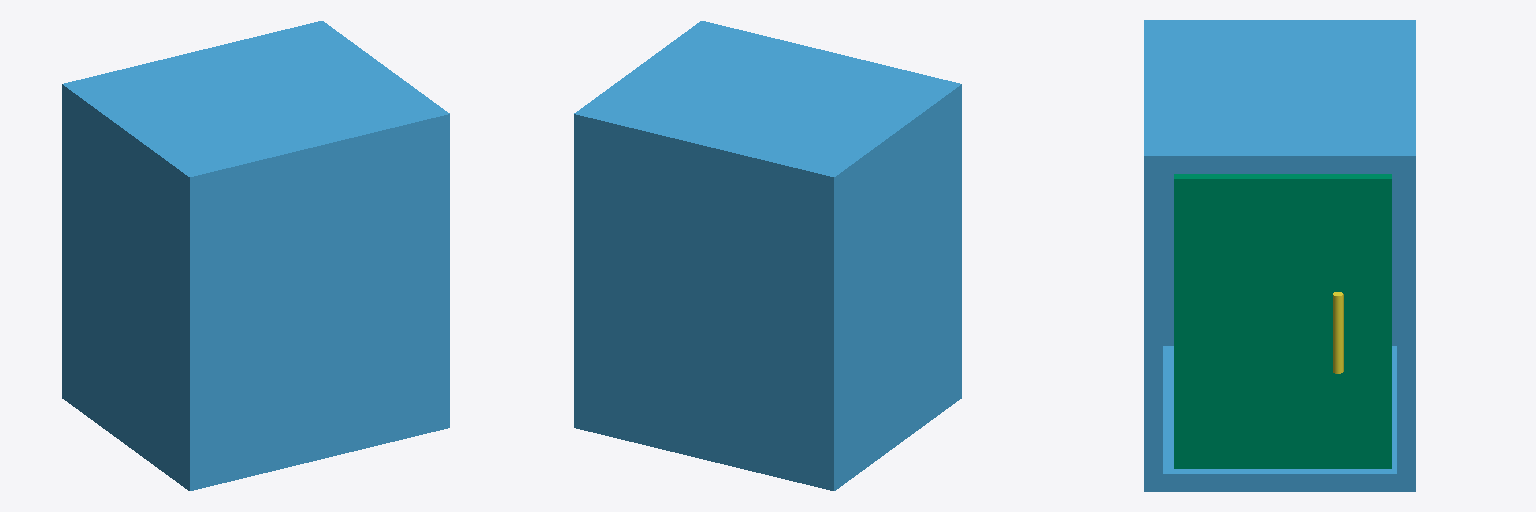
The robot description file, URDF, robot "my_cabinet":
<?xml version="1.0" ?>
<robot name="my_cabinet">
	<link name="world"/>
	<joint name="virtual_joint" type="fixed">
		<parent link="world"/>
		<child link="base_cabinet_link"/>
		<origin xyz="0.0 0.0 0.0" rpy="0.0 0.0 0.0"/>
	</joint>
	<link name="base_cabinet_link">
		<visual>
			<origin xyz="0.0 -0.0025 -0.16375338457756125" rpy="0.0 0.0 0.0"/>
			<geometry>
				<box size="0.3 0.2546394987290103 0.018"/>
			</geometry>
		</visual>
		<collision name="base_cabinet_link_collision_0">
			<origin xyz="0.0 -0.0025 -0.16375338457756125" rpy="0.0 0.0 0.0"/>
			<geometry>
				<box size="0.3 0.2546394987290103 0.018"/>
			</geometry>
		</collision>
		<visual>
			<origin xyz="0.0 0.11581974936450518 0.0" rpy="0.0 0.0 0.0"/>
			<geometry>
				<box size="0.3 0.018 0.3455067691551225"/>
			</geometry>
		</visual>
		<collision name="base_cabinet_link_collision_1">
			<origin xyz="0.0 0.11581974936450518 0.0" rpy="0.0 0.0 0.0"/>
			<geometry>
				<box size="0.3 0.018 0.3455067691551225"/>
			</geometry>
		</collision>
		<visual>
			<origin xyz="0.0 -0.12081974936450517 0.0" rpy="0.0 0.0 0.0"/>
			<geometry>
				<box size="0.3 0.018 0.3455067691551225"/>
			</geometry>
		</visual>
		<collision name="base_cabinet_link_collision_2">
			<origin xyz="0.0 -0.12081974936450517 0.0" rpy="0.0 0.0 0.0"/>
			<geometry>
				<box size="0.3 0.018 0.3455067691551225"/>
			</geometry>
		</collision>
		<visual>
			<origin xyz="0.0 -0.0025 0.16375338457756125" rpy="0.0 0.0 0.0"/>
			<geometry>
				<box size="0.3 0.25463949872901037 0.018"/>
			</geometry>
		</visual>
		<collision name="base_cabinet_link_collision_3">
			<origin xyz="0.0 -0.0025 0.16375338457756125" rpy="0.0 0.0 0.0"/>
			<geometry>
				<box size="0.3 0.25463949872901037 0.018"/>
			</geometry>
		</collision>
		<visual>
			<origin xyz="-0.141 -0.0025 0.0" rpy="0.0 0.0 0.0"/>
			<geometry>
				<box size="0.018 0.25463949872901037 0.3455067691551225"/>
			</geometry>
		</visual>
		<collision name="base_cabinet_link_collision_4">
			<origin xyz="-0.141 -0.0025 0.0" rpy="0.0 0.0 0.0"/>
			<geometry>
				<box size="0.018 0.25463949872901037 0.3455067691551225"/>
			</geometry>
		</collision>
		<inertial>
			<mass value="0.200000"/>
			<inertia ixx="0.003070" ixy="0.0" ixz="0.0" iyy="0.003490" iyz="0.0" izz="0.002581"/>
		</inertial>
	</link>
	<link name="door_link">
		<visual>
			<origin xyz="0.0 -0.10181974936450518 0.0"/>
			<geometry>
				<box size="0.018 0.20363949872901035 0.2995067691551225"/>
			</geometry>
		</visual>
		<collision name="door_link_collision">
			<origin xyz="0.0 -0.10181974936450518 0.0"/>
			<geometry>
				<box size="0.018 0.20363949872901035 0.2995067691551225"/>
			</geometry>
		</collision>
		<inertial>
			<mass value="0.200000"/>
			<inertia ixx="0.002186" ixy="0.0" ixz="0.0" iyy="0.001500" iyz="0.0" izz="0.000697"/>
		</inertial>
	</link>
	<joint name="door_joint" type="revolute">
		<origin xyz="0.141 -0.10181974936450518 0.0" rpy="0.000000 -0.000000 3.141593"/>
		<axis xyz="0 0 1"/>
		<parent link="base_cabinet_link"/>
		<child link="door_link"/>
		<limit effort="50" lower="-1.658062789394613" upper="0" velocity="10"/>
		<dynamics friction="3.5" damping="3.5"/>
	</joint>
	<link name="handle_link">
		<visual>
			<origin xyz="0.0 0.0 0.0" rpy="0.0 0.0 0.0"/>
			<geometry>
				<cylinder length="0.08" radius="0.005"/>
			</geometry>
		</visual>
		<collision name="handle_link_collision_0">
			<origin xyz="0.0 0.0 0.0" rpy="0.0 0.0 0.0"/>
			<geometry>
				<cylinder length="0.08" radius="0.005"/>
			</geometry>
		</collision>
		<visual>
			<origin xyz="-0.01 0.0 0.02" rpy="0.0 1.5707963267948966 0.0"/>
			<geometry>
				<cylinder length="0.02" radius="0.003"/>
			</geometry>
		</visual>
		<collision name="handle_link_collision_1">
			<origin xyz="-0.01 0.0 0.02" rpy="0.0 1.5707963267948966 0.0"/>
			<geometry>
				<cylinder length="0.01" radius="0.003"/>
			</geometry>
		</collision>
		<visual>
			<origin xyz="-0.01 0.0 -0.02" rpy="0.0 1.5707963267948966 0.0"/>
			<geometry>
				<cylinder length="0.02" radius="0.003"/>
			</geometry>
		</visual>
		<collision name="handle_link_collision_2">
			<origin xyz="-0.01 0.0 -0.02" rpy="0.0 1.5707963267948966 0.0"/>
			<geometry>
				<cylinder length="0.02" radius="0.003"/>
			</geometry>
		</collision>
		<inertial>
			<mass value="0.050000"/>
			<inertia ixx="0.000027" ixy="0.0" ixz="0.0" iyy="0.000029" iyz="0.0" izz="0.000003"/>
		</inertial>
	</link>
	<joint name="handle_joint" type="fixed">
		<origin xyz="-0.028999999999999998 -0.15363949872901034 0.0" rpy="0.000000 -0.000000 3.141593"/>
		<parent link="door_link"/>
		<child link="handle_link"/>
	</joint>
	<gazebo reference="base_cabinet_link">
		<sensor name="main_sensor" type="contact">
			<selfCollide>true</selfCollide>
			<alwaysOn>true</alwaysOn>
			<updateRate>5.0</updateRate>
			<material>Gazebo/Red</material>
			<contact>
				<collision>base_cabinet_link_collision_0_collision</collision>
				<collision>base_cabinet_link_collision_1_collision</collision>
				<collision>base_cabinet_link_collision_2_collision</collision>
				<collision>base_cabinet_link_collision_3_collision</collision>
				<collision>base_cabinet_link_collision_4_collision</collision>
			</contact>
			<plugin name="gazebo_ros_bumper_controller" filename="libgazebo_ros_bumper.so">
				<bumperTopicName>/contact</bumperTopicName>
				<frameName>world</frameName>
			</plugin>
		</sensor>
	</gazebo>
	<gazebo reference="door_link">
		<sensor name="main_sensor" type="contact">
			<selfCollide>true</selfCollide>
			<alwaysOn>true</alwaysOn>
			<updateRate>5.0</updateRate>
			<material>Gazebo/Red</material>
			<contact>
				<collision>door_link_collision_collision</collision>
			</contact>
			<plugin name="gazebo_ros_bumper_controller" filename="libgazebo_ros_bumper.so">
				<bumperTopicName>/contact_door</bumperTopicName>
				<frameName>contact_door</frameName>
			</plugin>
		</sensor>
	</gazebo>
	<gazebo reference="door_link">
		<mu>3.0</mu>
		<mu2>3.0</mu2>
		<kp>10000000</kp>
		<kd>100</kd>
	</gazebo>
</robot>

--- Render facts (derived) ---
Views: 3 orthographic renders of the robot side by side, from view 1: azimuth 30°, elevation 25°; view 2: azimuth 150°, elevation 25°; view 3: azimuth 270°, elevation 25°.
Robot: my_cabinet — 4 links, 3 joints (1 revolute, 2 fixed); root link world; default pose: every joint at zero.
Visible links, largest first — view 1: base_cabinet_link; view 2: base_cabinet_link; view 3: base_cabinet_link, door_link, handle_link.
Boxes of the visible links, x1,y1,x2,y2 form: base_cabinet_link: (62,21,449,490); base_cabinet_link: (574,21,961,490); base_cabinet_link: (1144,20,1415,491); door_link: (1174,174,1391,468); handle_link: (1333,292,1343,373).
Size in the robot's own frame: 0.325 by 0.2546 by 0.3455 metres.
Geometry: primitives only (box / cylinder / sphere), no mesh files.
